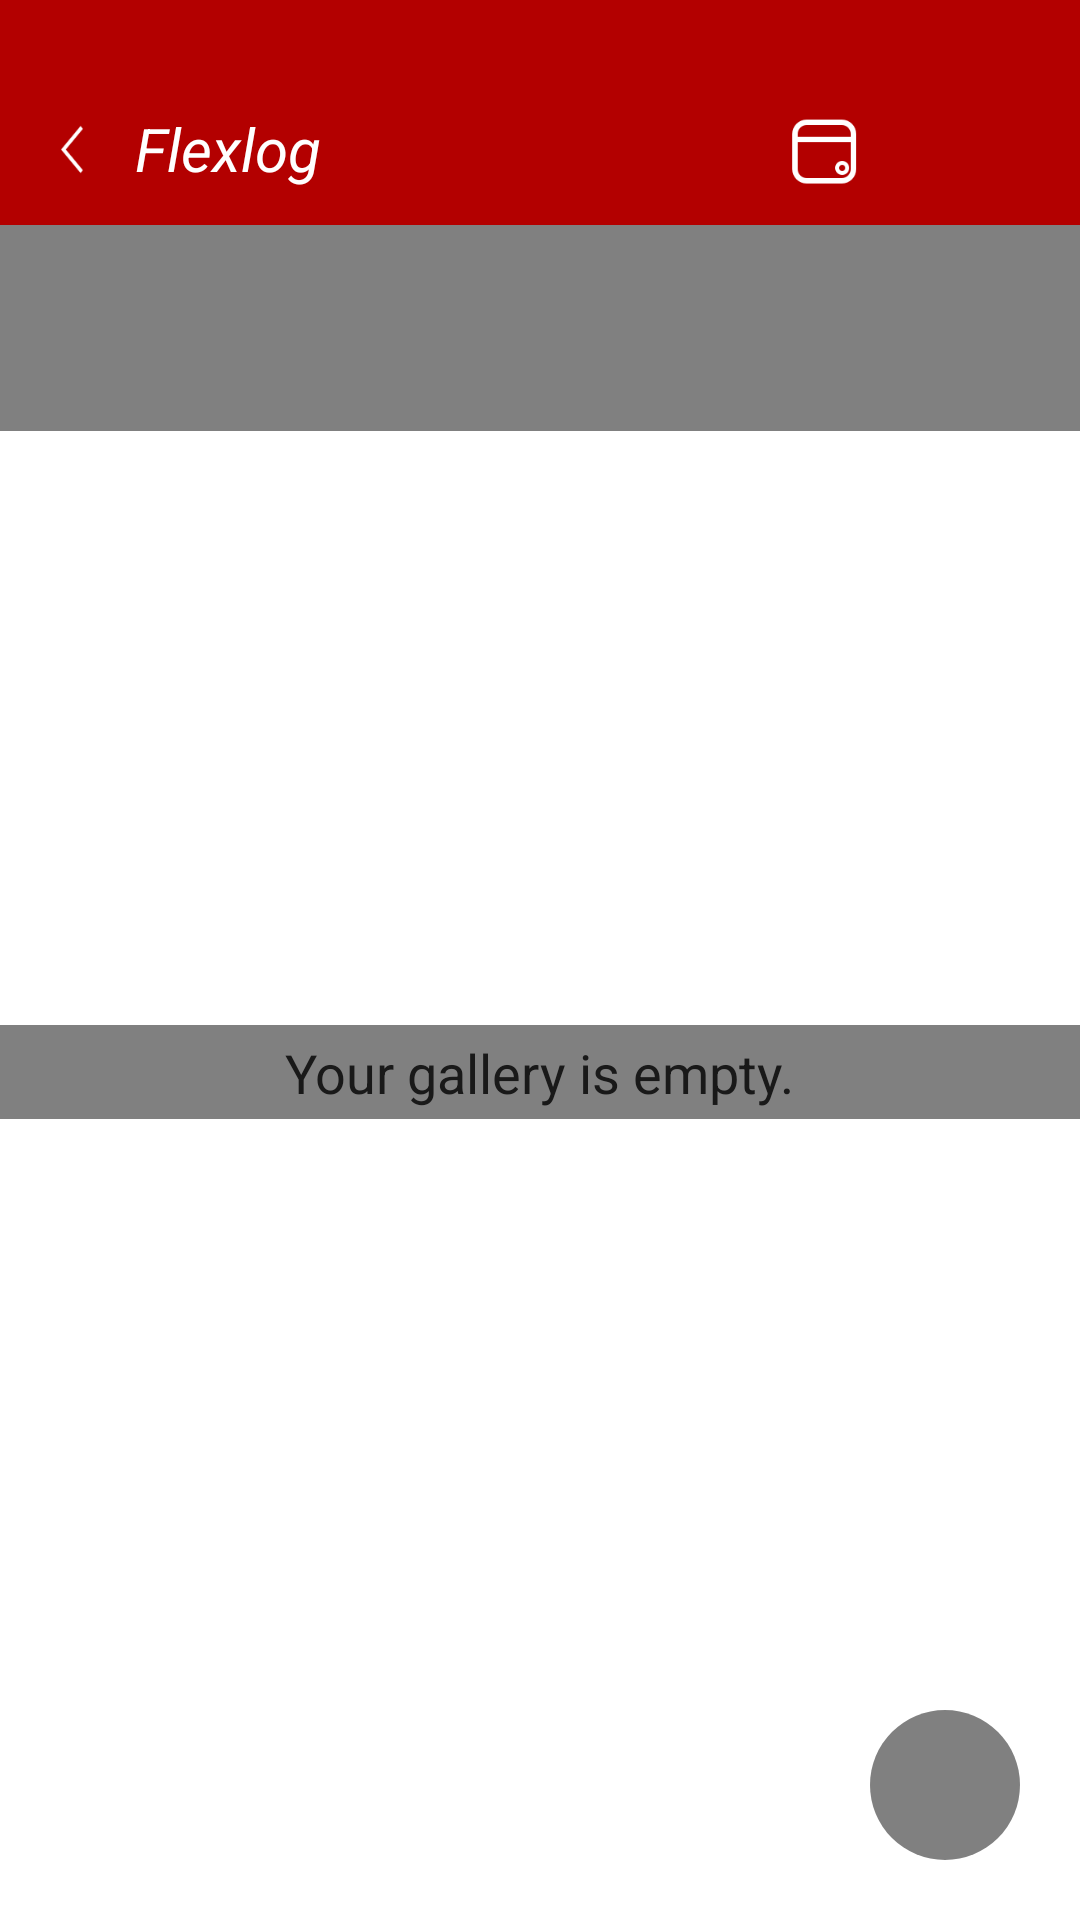

Icons on this 1080 × 1920 Android screen, each with the point to tap as [x,y]:
leftwhite: [72,149]
